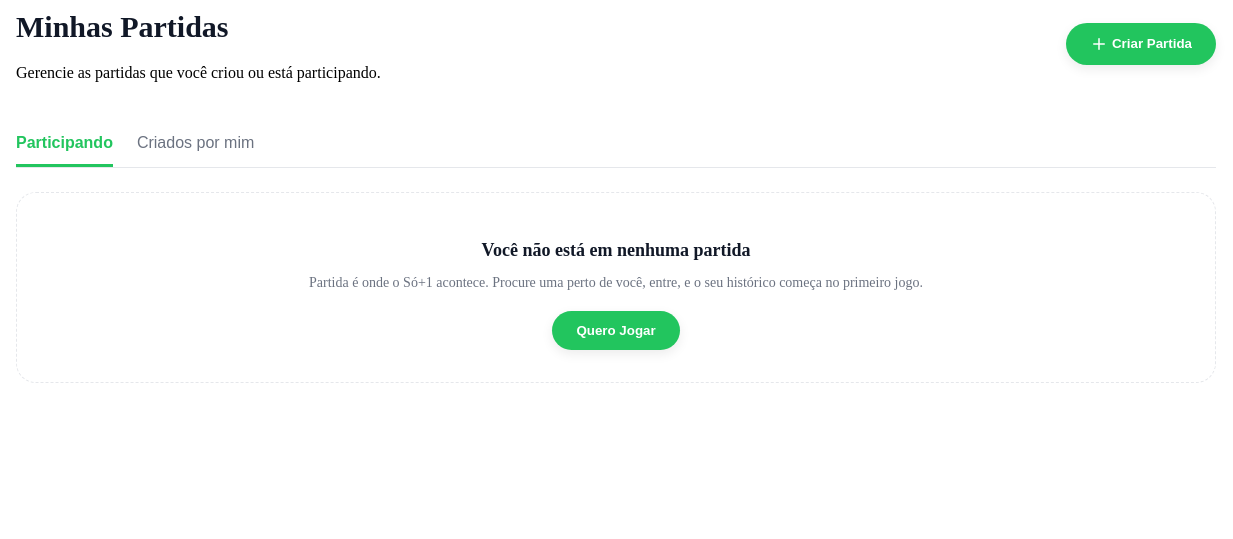
Test: MinhasPartidas — ações de organizador › esconde as ações em partida já finalizada, e oferece confirmar presenças
Click the button "Criados por mim".
click(196, 145)  # box [137,122,254,167]
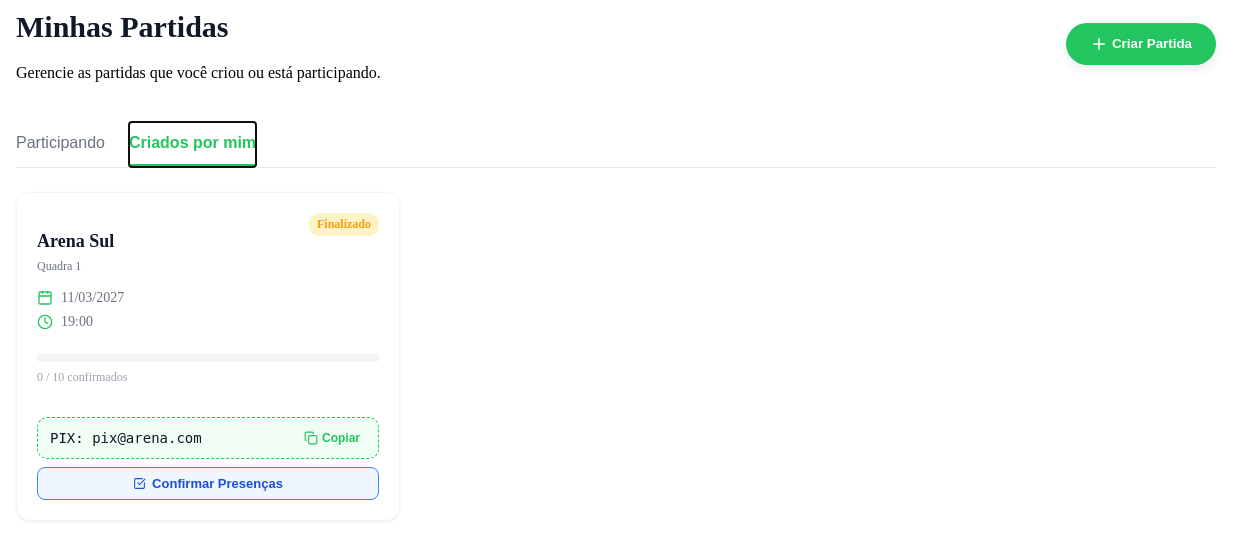
expect the heading "Arena Sul" is shown: met, box [37,231,114,252]
expect the button "Confirmar Presenças" is shown: met, box [37,467,379,500]
